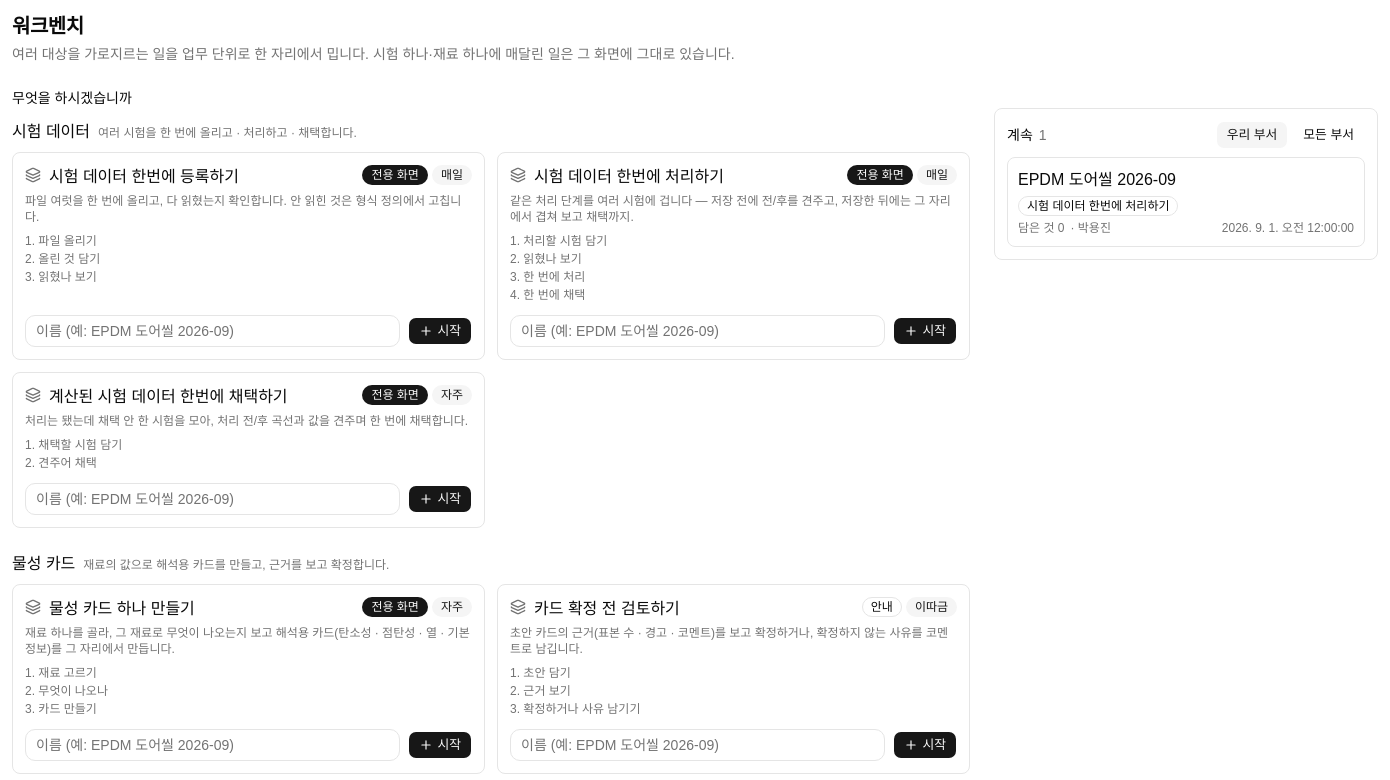
Test: 남은 일을 말한다 › 막지는 않는다
Click the text "EPDM 도어씰 2026-09": (1097, 180) [1018,171,1176,188]
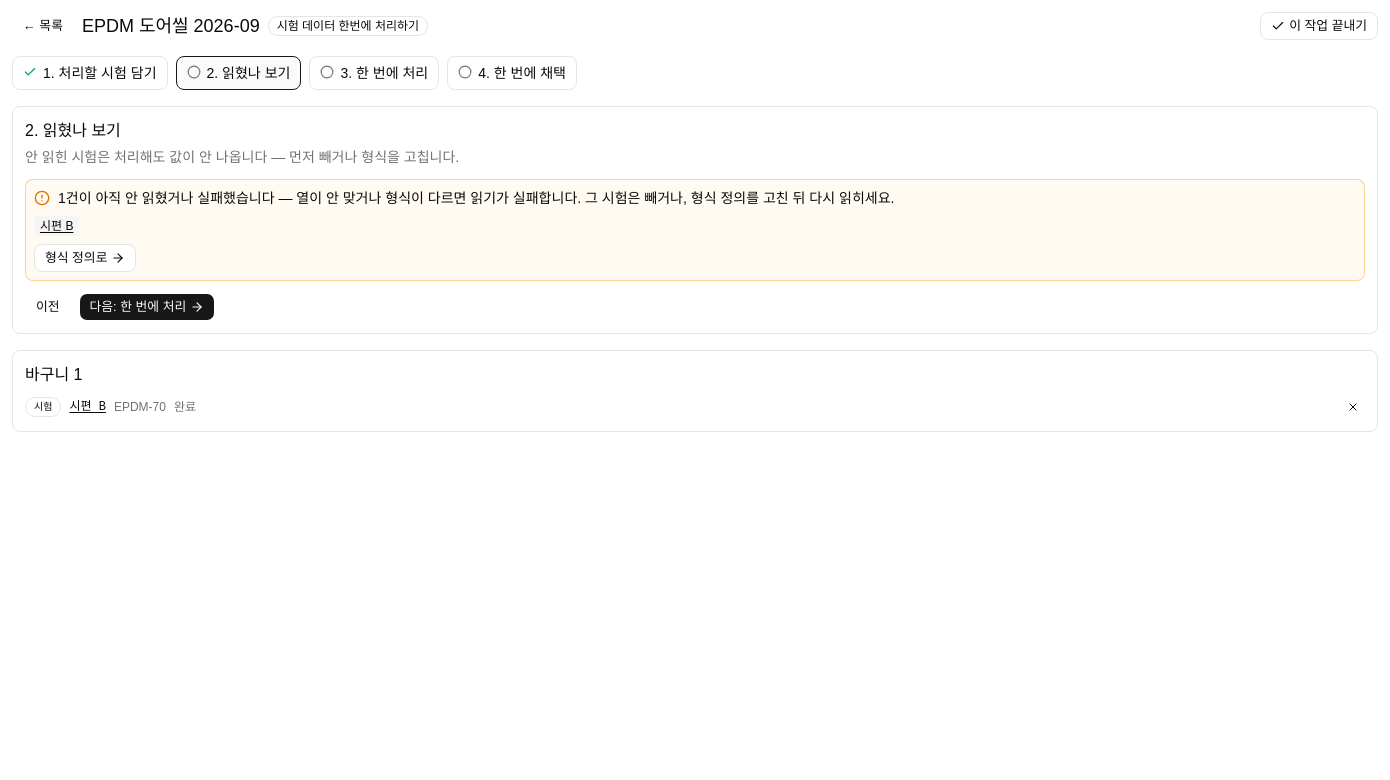
expect the list named "단계" is shown: met, box [12,56,577,90]
expect the button "다음: 한 번에 처리" is enabled: met, box [78,293,215,321]
